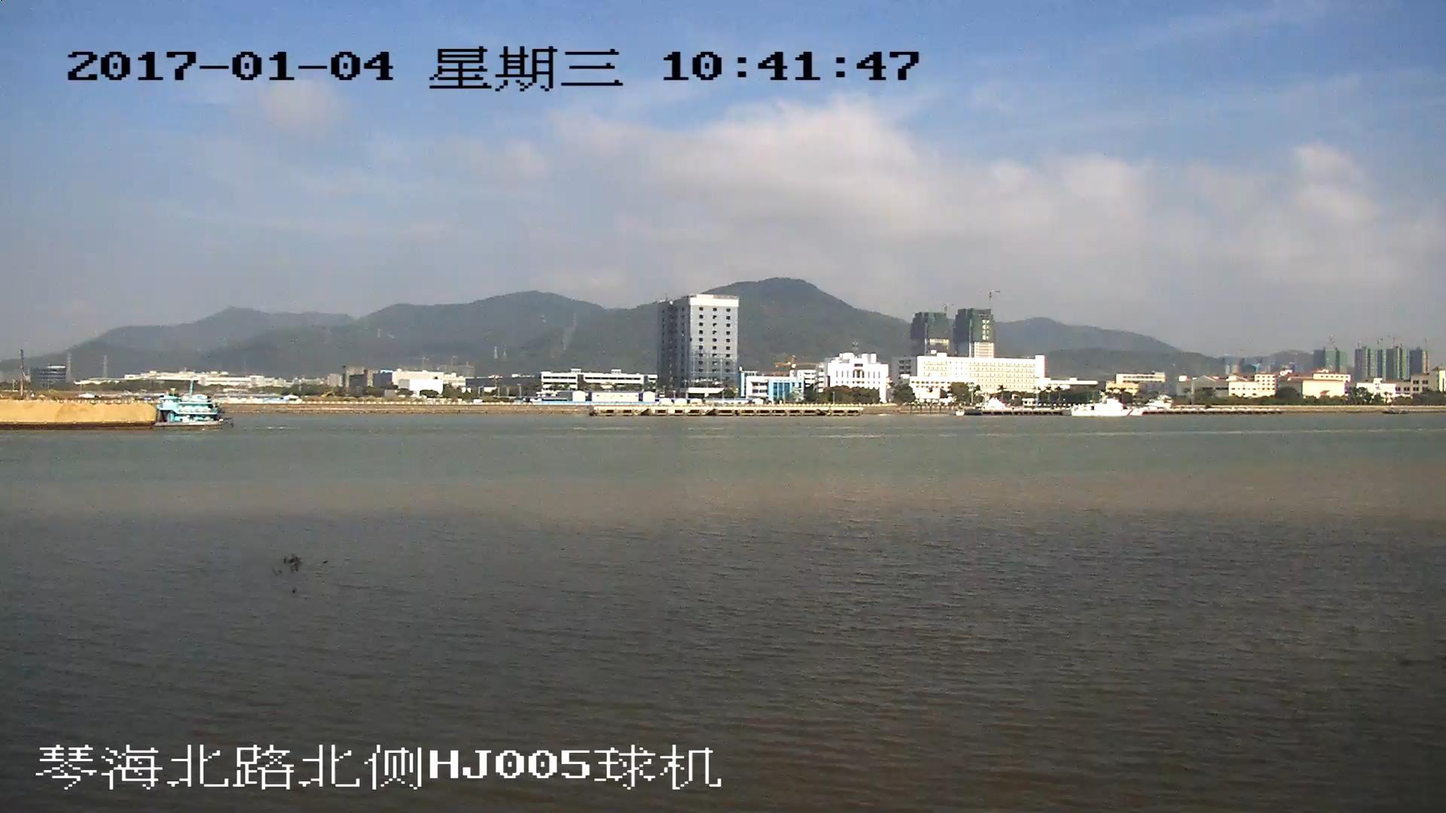ore carrier: (0, 394, 223, 430)
